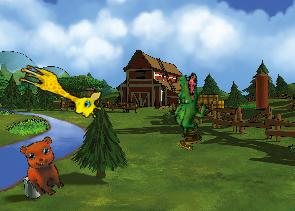bear: (12, 131, 77, 201)
crocodile: (161, 70, 215, 138)
giraffe: (12, 61, 107, 122)
